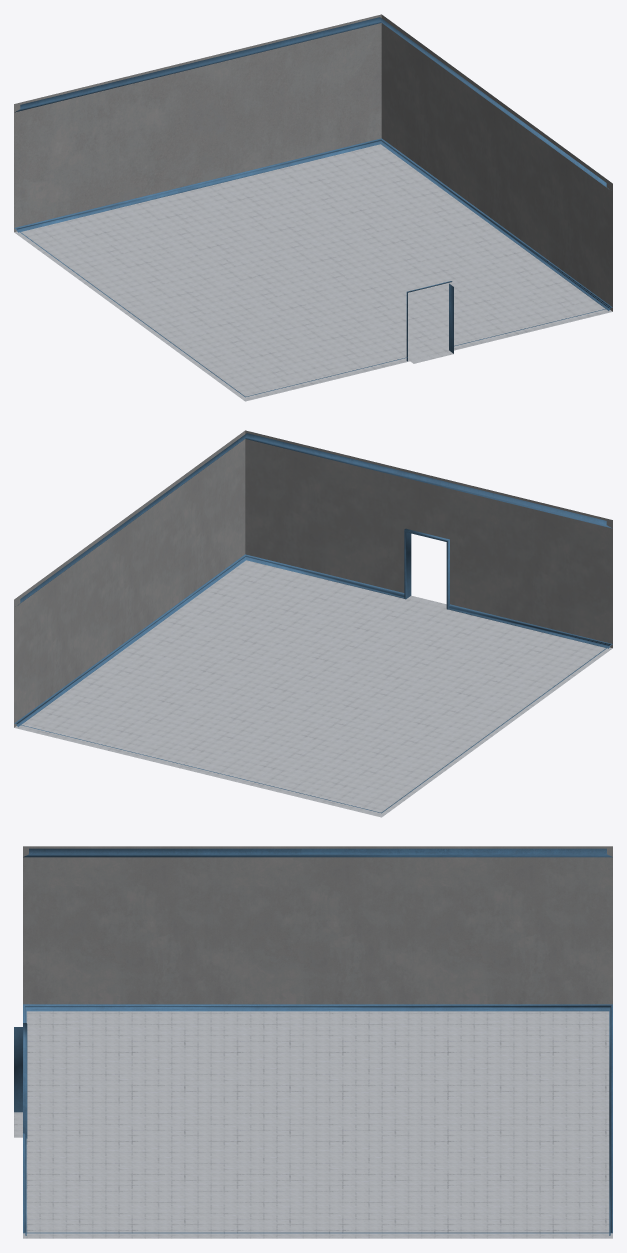
Rendered from PZ_room1.glb.
The picture shows the model from 3 angles, top to bottom: view 1: azimuth 30°, elevation 25°; view 2: azimuth 150°, elevation 25°; view 3: azimuth 270°, elevation 25°; orthographic projection. The views are drawn at different scales.
Parts seen in each view (by area): view 1: PZ_HallwayI; view 2: PZ_HallwayI; view 3: PZ_HallwayI.
Boxes of the visible parts, left/top/right/bottom form: PZ_HallwayI: left=14, top=14, right=612, bottom=401; PZ_HallwayI: left=14, top=430, right=612, bottom=817; PZ_HallwayI: left=14, top=846, right=612, bottom=1238.
Size of the model in its own units: 9.01 by 3 by 9.96.
3 materials, 3 textured.
